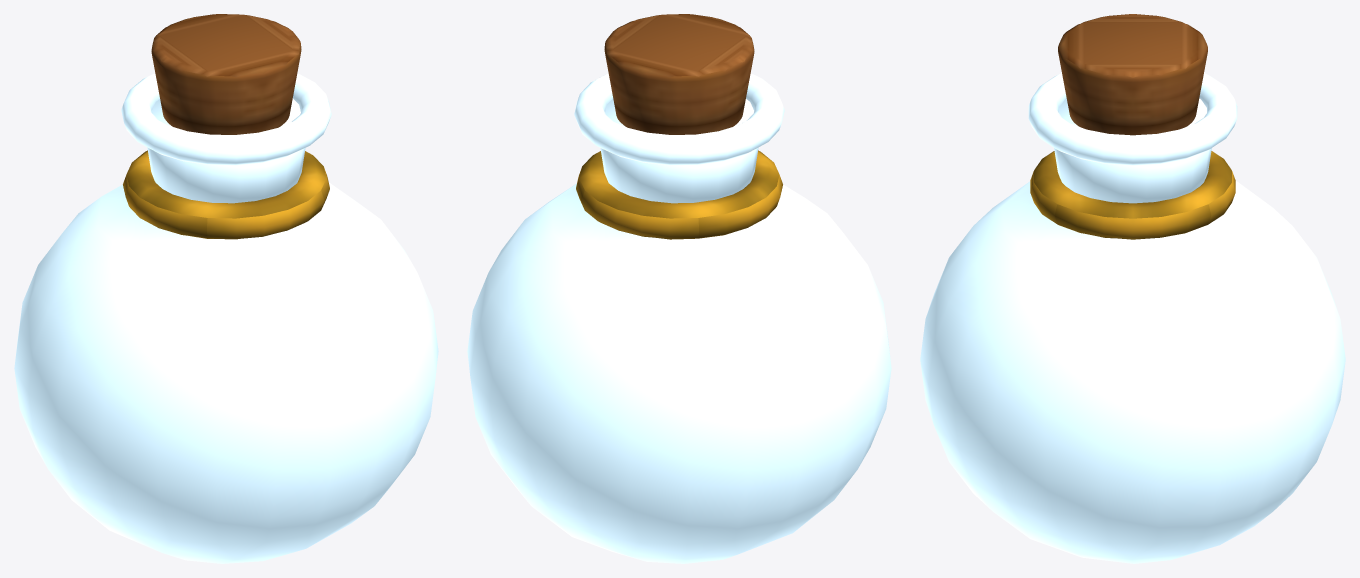
File: m3_potion.glb
3 views of the same model, side by side, from view 1: azimuth 30°, elevation 25°; view 2: azimuth 150°, elevation 25°; view 3: azimuth 270°, elevation 25° (orthographic).
Visible parts, largest first — view 1: PotionGlassGlobe, PotionCork, PotionGoldCollar, PotionGlassLip, PotionGlassNeck; view 2: PotionGlassGlobe, PotionCork, PotionGoldCollar, PotionGlassLip, PotionGlassNeck; view 3: PotionGlassGlobe, PotionCork, PotionGoldCollar, PotionGlassLip, PotionGlassNeck.
Part boxes in pixels (box(x1,y1,x2,y2)): PotionGlassGlobe: box(14, 182, 438, 563); PotionCork: box(151, 14, 301, 134); PotionGoldCollar: box(123, 150, 329, 239); PotionGlassLip: box(121, 73, 331, 165); PotionGlassNeck: box(147, 98, 305, 203); PotionGlassGlobe: box(467, 183, 891, 563); PotionCork: box(604, 14, 754, 134); PotionGoldCollar: box(576, 150, 782, 239); PotionGlassLip: box(574, 73, 784, 165); PotionGlassNeck: box(600, 98, 758, 203); PotionGlassGlobe: box(920, 180, 1345, 563); PotionCork: box(1058, 14, 1207, 135); PotionGoldCollar: box(1030, 151, 1235, 239); PotionGlassLip: box(1028, 73, 1237, 165); PotionGlassNeck: box(1054, 98, 1211, 203).
Size of the model in its own units: 0.7721 by 1.01 by 0.78.
Materials: 5 (2 with a texture image).
